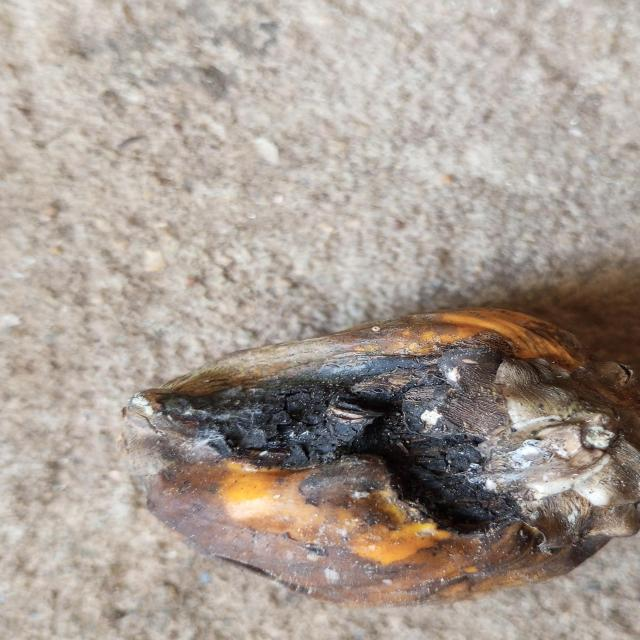damaged: (122, 309, 640, 608)
